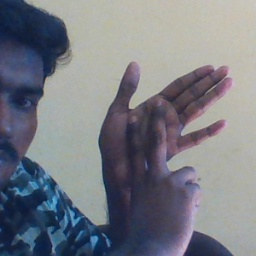N: (93, 54, 232, 212)
